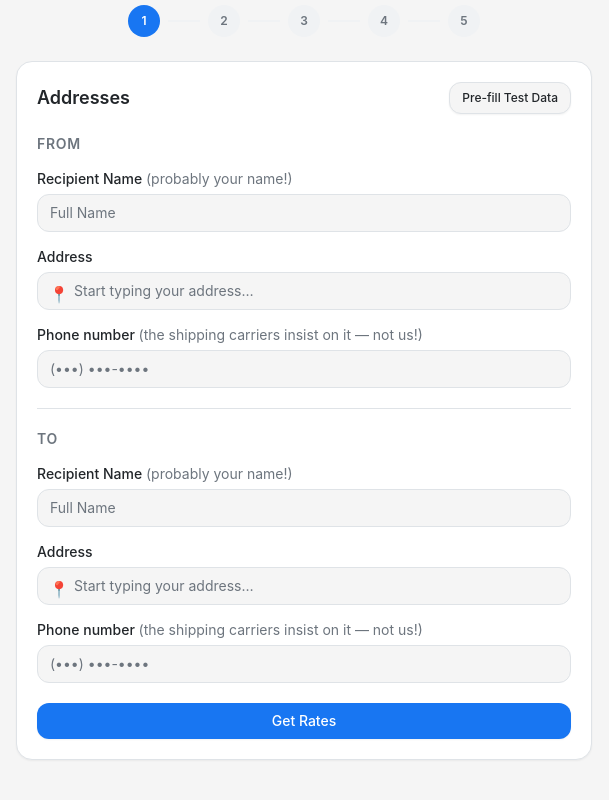
Test: LabelTest page › blocks Get Rates if address not selected from dropdown
(page scrolled)
Click Get Rates without selecting from dropdown
Click the button "Get Rates". click: point(304, 721)
box: x1=37 y1=703 x2=571 y2=739
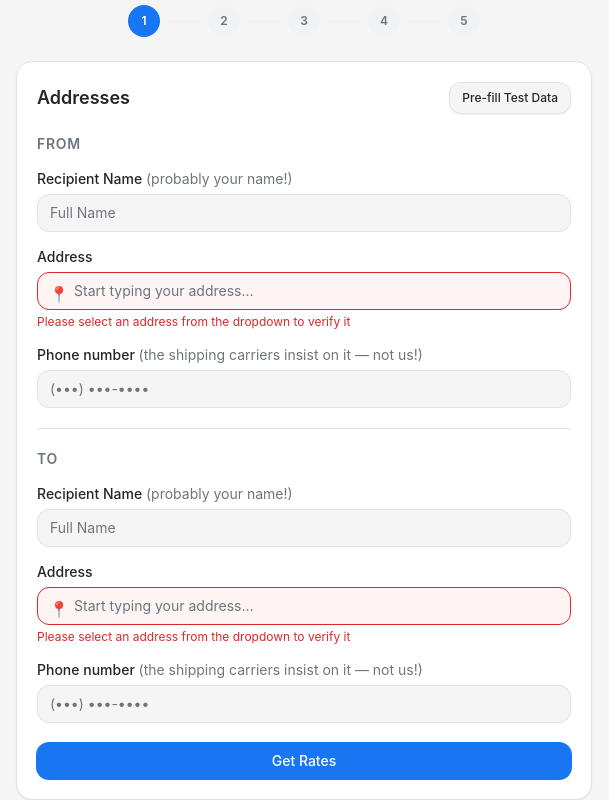
Expected: the 1st text "Please select an address from the dropdown to verify it" is shown, x1=37 y1=314 x2=350 y2=329
